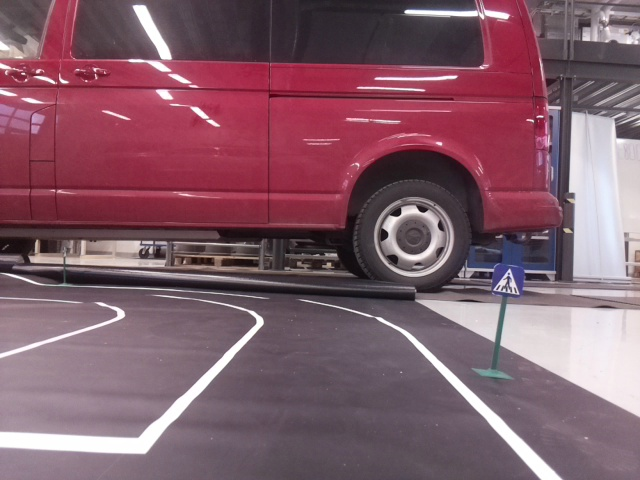Crosswalk: (493, 263, 520, 295)
